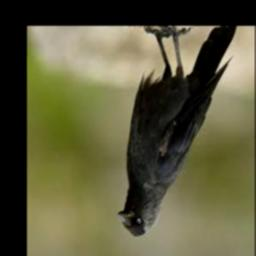Crow: (119, 27, 238, 237)
